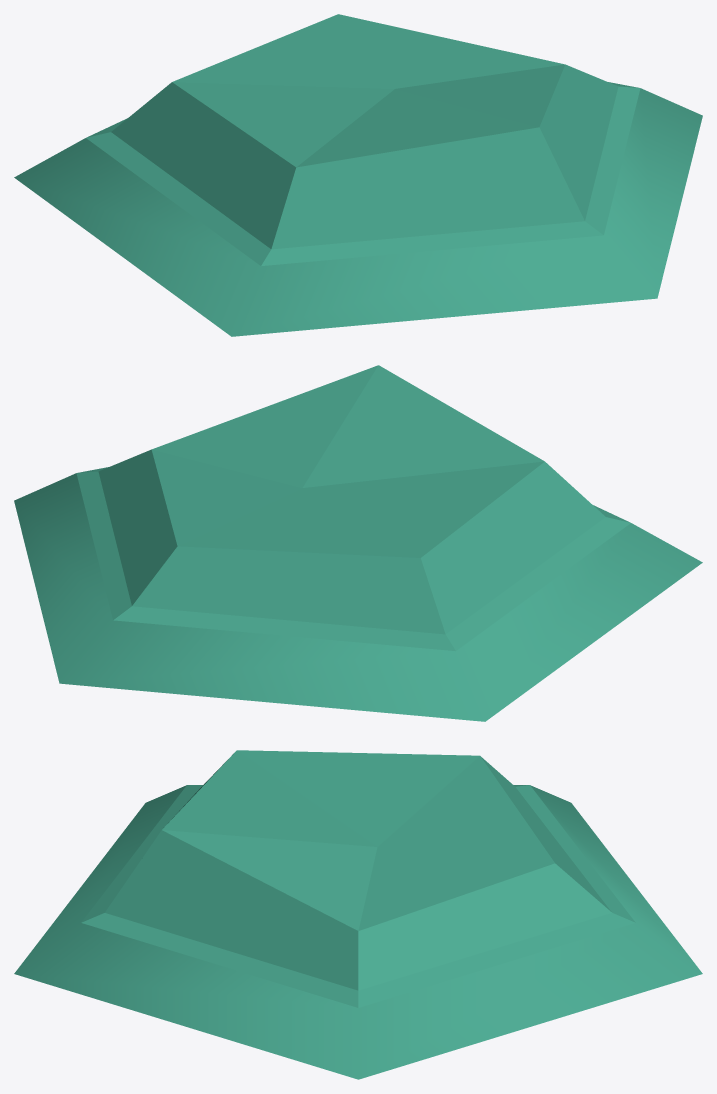
Rendered from medium rock.fbx.
The picture shows the model from 3 angles, top to bottom: view 1: azimuth 30°, elevation 25°; view 2: azimuth 150°, elevation 25°; view 3: azimuth 270°, elevation 25°; orthographic projection. The views are drawn at different scales.
Parts seen in each view (by area): view 1: Cylinder004; view 2: Cylinder004; view 3: Cylinder004.
Boxes of the visible parts, left/top/right/bottom form: Cylinder004: left=14, top=14, right=702, bottom=336; Cylinder004: left=14, top=365, right=702, bottom=721; Cylinder004: left=14, top=750, right=702, bottom=1079.
Size of the model in its own units: 11.95 by 2.49 by 12.56.
1 material, 1 textured.
